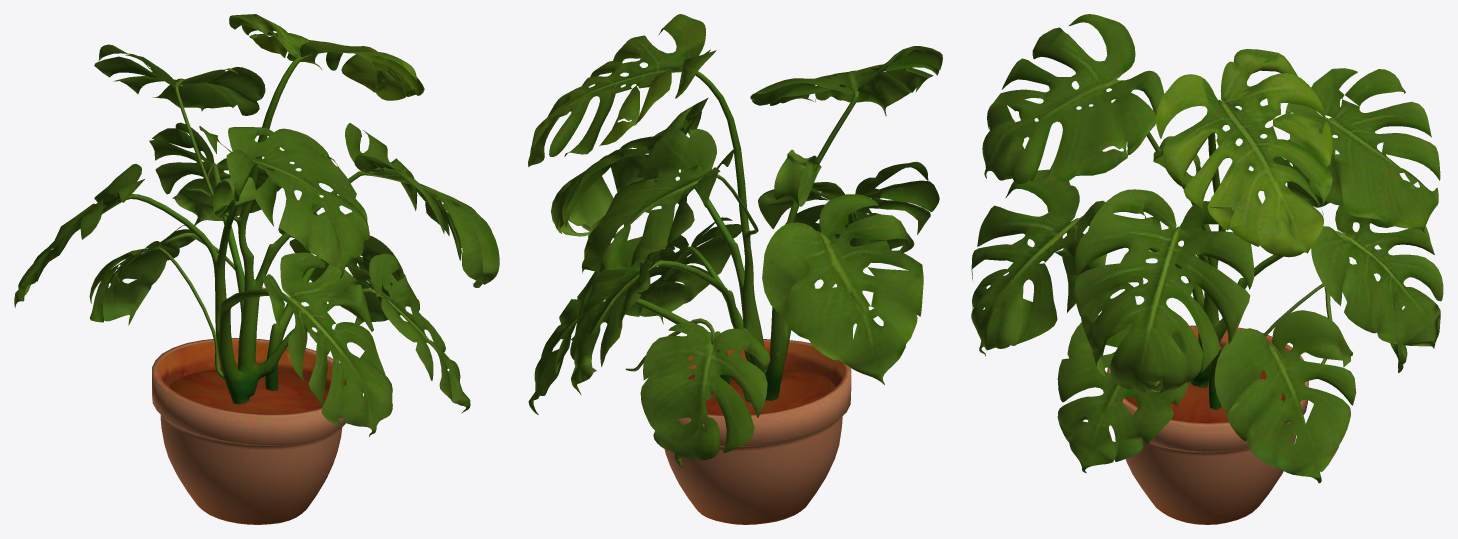
Rendered from monstera.glb.
3 renders of one model, left to right at view 1: azimuth 30°, elevation 25°; view 2: azimuth 150°, elevation 25°; view 3: azimuth 270°, elevation 25°, orthographic.
Parts seen in each view (by area): view 1: tripo_node_c697b216-2794-4977-a556-8c7e3a71e1d8; view 2: tripo_node_c697b216-2794-4977-a556-8c7e3a71e1d8; view 3: tripo_node_c697b216-2794-4977-a556-8c7e3a71e1d8.
Part boxes in pixels (box(x1,y1,x2,y2)): tripo_node_c697b216-2794-4977-a556-8c7e3a71e1d8: box(14, 14, 499, 524); tripo_node_c697b216-2794-4977-a556-8c7e3a71e1d8: box(528, 14, 942, 524); tripo_node_c697b216-2794-4977-a556-8c7e3a71e1d8: box(971, 14, 1443, 524).
Bounding box in the file's own units: 0.9175 × 0.9995 × 0.9272.
Materials: 1 (1 with a texture image).
